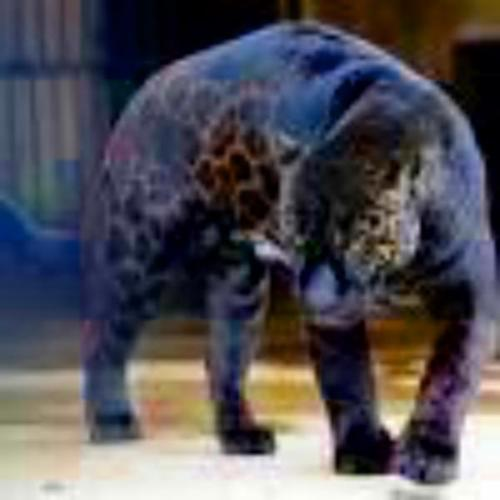panther-endangered: (77, 19, 500, 484)
